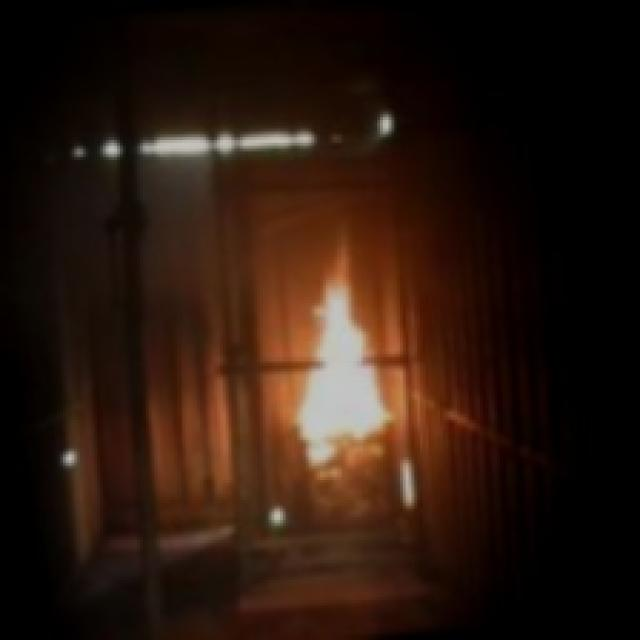fire: (269, 227, 394, 470)
